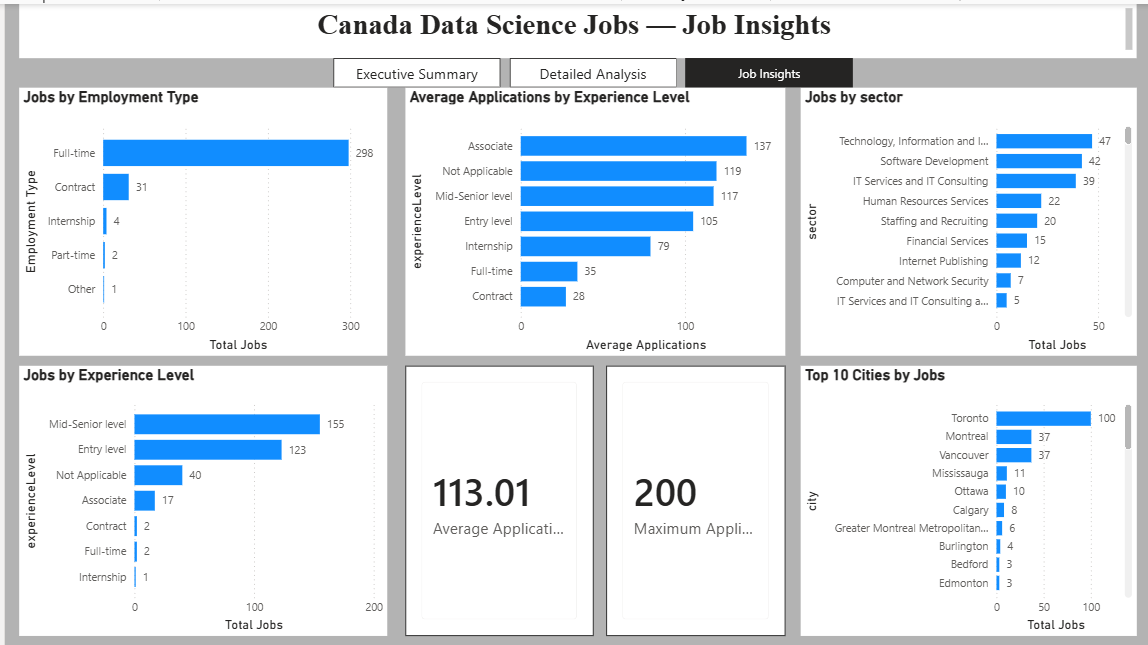

Layout of this report page (visuals, bound fields, positions):
{"tool":"powerbi","page":{"name":"Job Insights","canvas":[1280,720],"ordinal":2},"visuals":[{"type":"clusteredBarChart","title":"Jobs by Employment Type","fields":{"Category":["Dim_Employment.Employment Type"],"Y":["Fact_Jobs.Total Jobs"]},"box":[15.8,93.6,411.8,299.5],"z":0},{"type":"clusteredBarChart","title":"Jobs by Experience Level","fields":{"Category":["Dim_Experience.experienceLevel"],"Y":["Fact_Jobs.Total Jobs"]},"box":[15.8,404.6,411.8,302.4],"z":1},{"type":"clusteredBarChart","title":"Jobs by sector","fields":{"Category":["Dim_Sector.sector"],"Y":["Fact_Jobs.Total Jobs"]},"box":[889.8,93.6,375.8,299.5],"z":2},{"type":"cardVisual","fields":{"Data":["Dim_Company.Average Applications"]},"box":[447.8,404.6,210.2,302.4],"z":3},{"type":"cardVisual","fields":{"Data":["Dim_Company.Maximum Applications"]},"box":[672.4,404.6,200.1,302.4],"z":4},{"type":"clusteredBarChart","title":"Top 10 Cities by Jobs","fields":{"Category":["Dim_Location.city"],"Y":["Fact_Jobs.Total Jobs"]},"box":[889.8,404.6,375.8,302.4],"z":5},{"type":"clusteredBarChart","title":"Average Applications by Experience Level","fields":{"Category":["Dim_Experience.experienceLevel"],"Y":["Dim_Company.Average Applications"]},"box":[447.8,93.6,424.8,299.5],"z":6},{"type":"textbox","box":[15.8,0,1249.8,60.5],"z":7},{"type":"pageNavigator","box":[367.2,60.5,583.1,33.1],"z":8}]}

Visuals, with their boxes in screenshot pixels (x1, y1, x2, y2), scaled from the page's 1280x720 canvas onto the 1148x645 screenshot:
"Jobs by Employment Type" clusteredBarChart: box(14, 84, 384, 352)
"Jobs by Experience Level" clusteredBarChart: box(14, 362, 384, 633)
"Jobs by sector" clusteredBarChart: box(798, 84, 1135, 352)
cardVisual - Dim_Company.Average Applications: box(402, 362, 590, 633)
cardVisual - Dim_Company.Maximum Applications: box(603, 362, 783, 633)
"Top 10 Cities by Jobs" clusteredBarChart: box(798, 362, 1135, 633)
"Average Applications by Experience Level" clusteredBarChart: box(402, 84, 783, 352)
textbox: box(14, 0, 1135, 54)
pageNavigator: box(329, 54, 852, 84)
